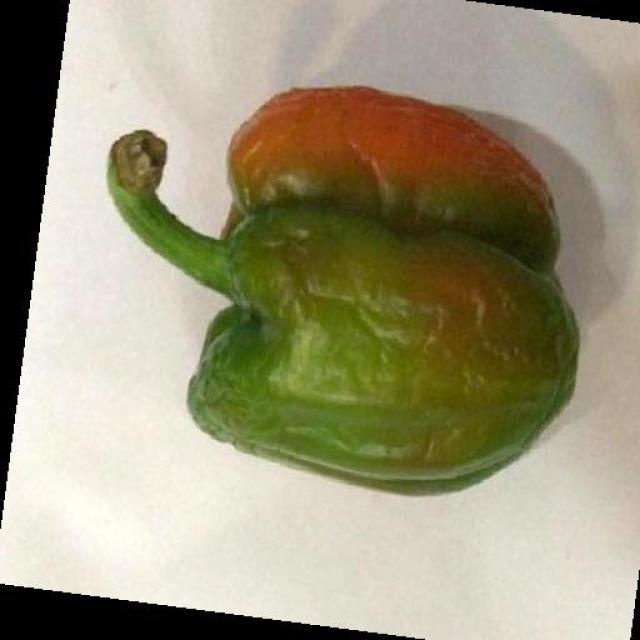Stale_Capsicum: (152, 75, 579, 490)
